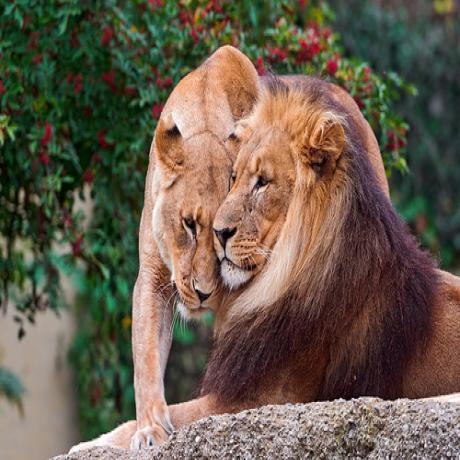Lion: (214, 85, 460, 401), (131, 42, 216, 455)
